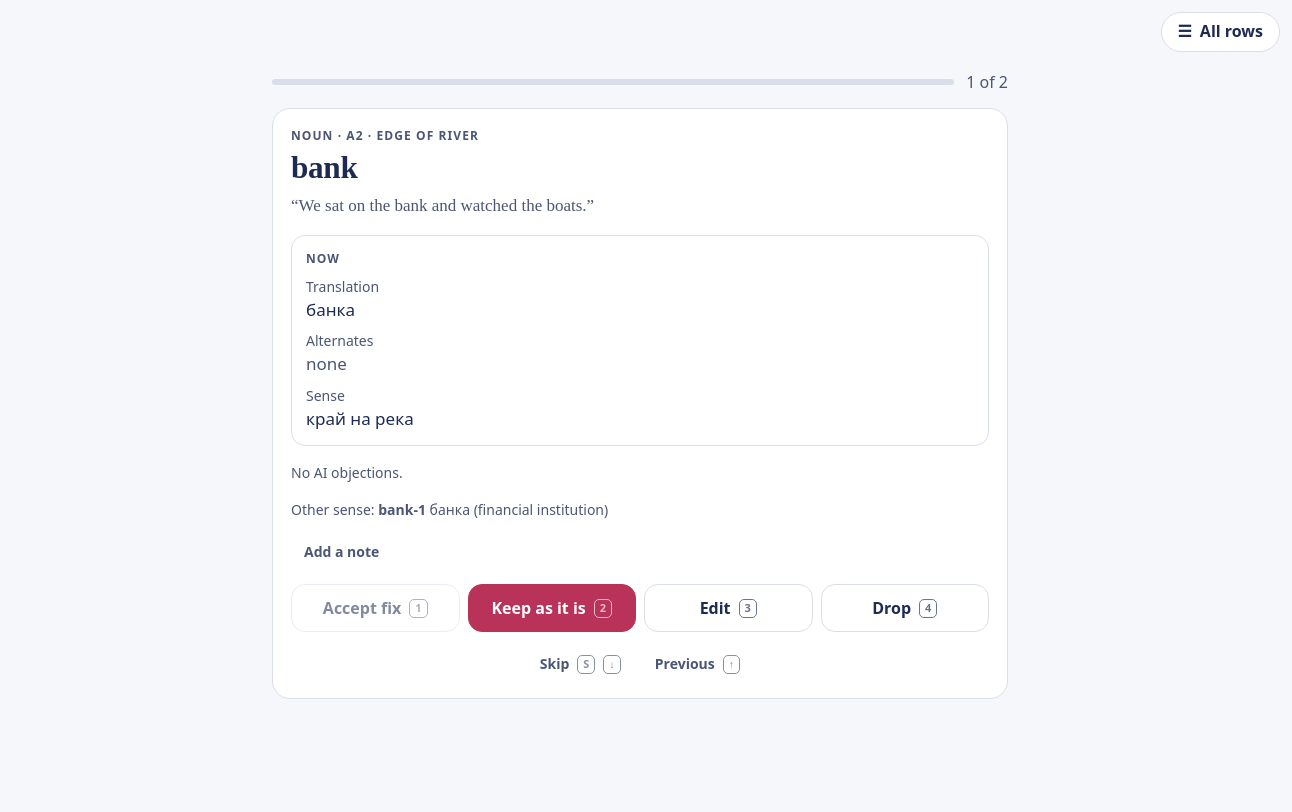
Test: ReviewScreen › opens the row list again after an edit was saved
Click the button "Edit 3".
click(728, 608)  # box [644,584,812,632]
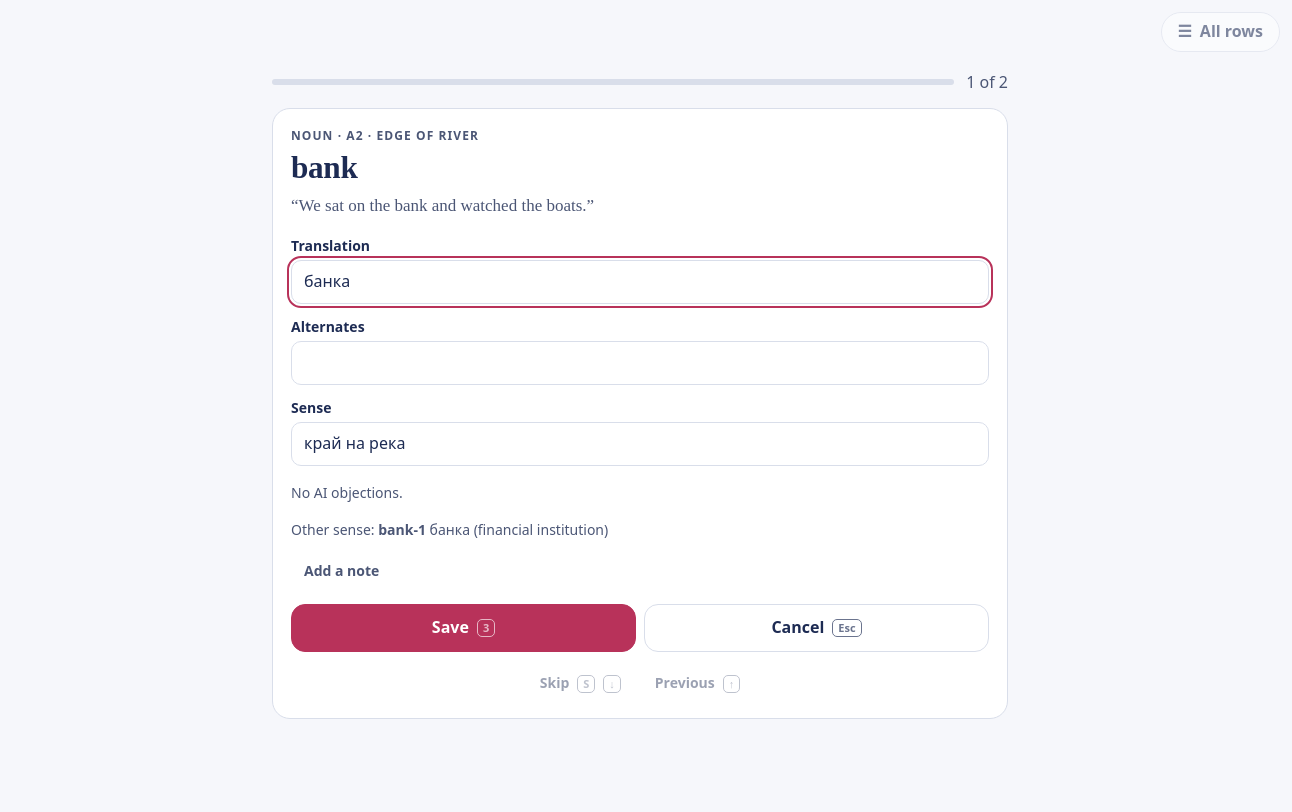
Click the button "Save 3".
click(464, 628)  # box [291,604,636,652]
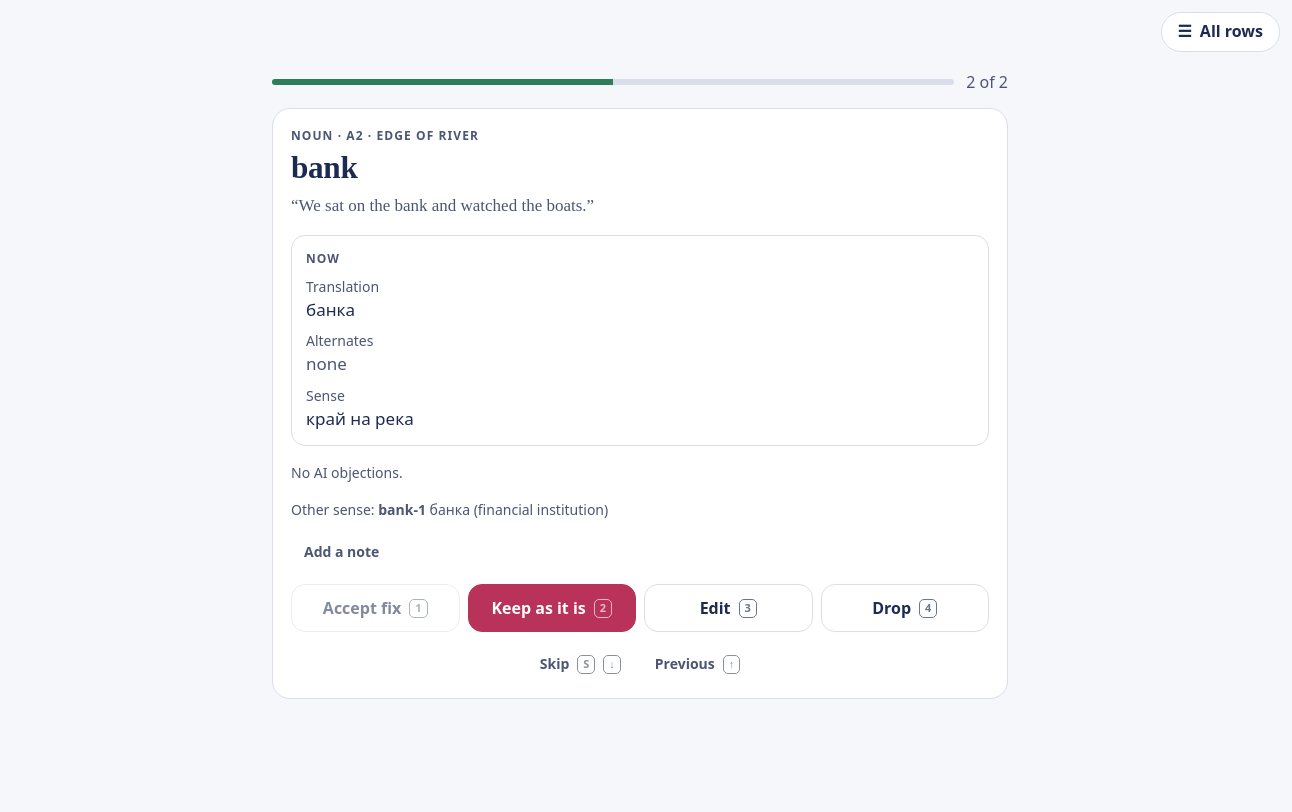
Now the element named "Row b-1" is shown, box [272,70,1008,699]
Now the button "☰ All rows" is enabled, box [1160,12,1280,52]
